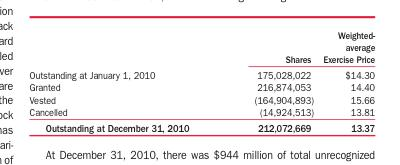table: (28, 28, 374, 133)
table column: (28, 28, 221, 133), (221, 28, 317, 133), (317, 28, 374, 133)
table column header: (28, 28, 374, 66)
table row: (28, 28, 374, 66), (28, 66, 374, 80), (28, 105, 374, 119), (28, 119, 374, 133), (28, 92, 374, 105), (28, 80, 374, 92)
